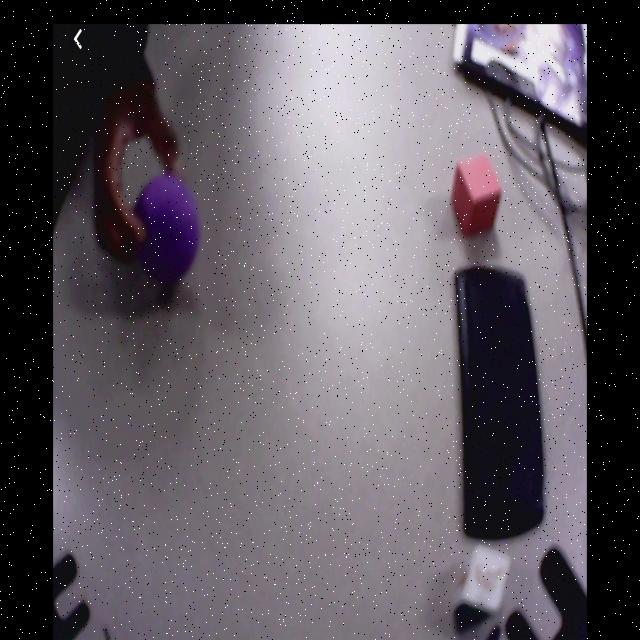ball: (135, 180, 199, 279)
